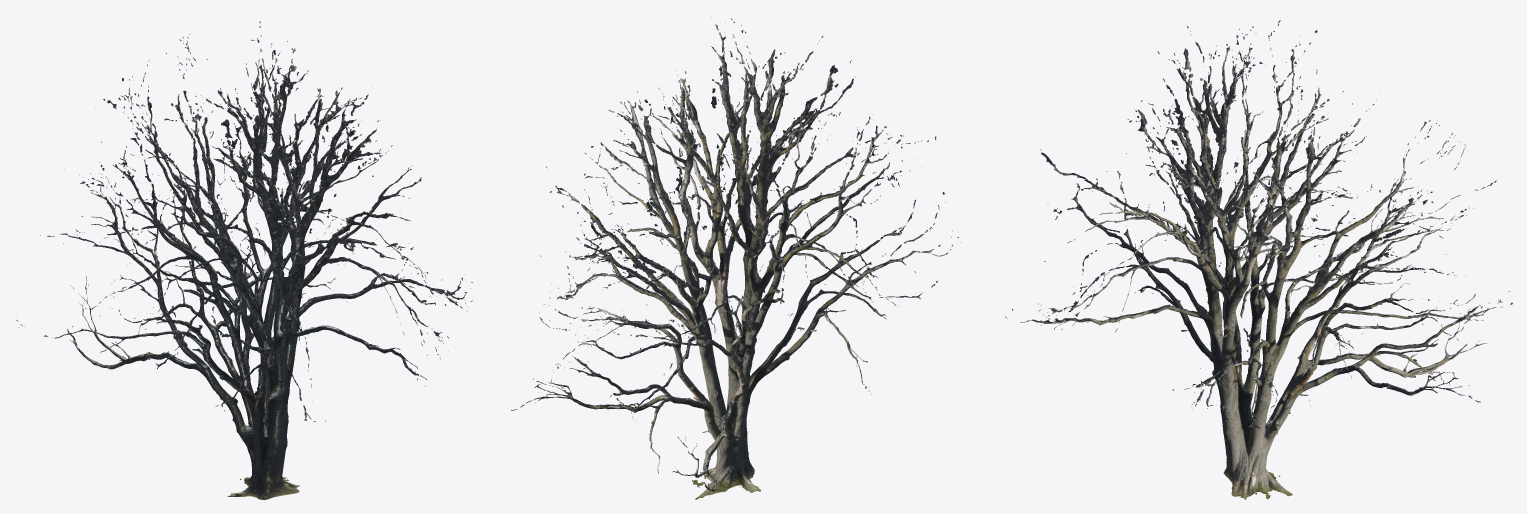
File: tree.glb
3 renders of one model, left to right at view 1: azimuth 30°, elevation 25°; view 2: azimuth 150°, elevation 25°; view 3: azimuth 270°, elevation 25°, orthographic. The views are drawn at different scales.
Parts seen in each view (by area): view 1: Object_2; view 2: Object_2; view 3: Object_2.
Boxes of the visible parts, box(x1,y1,x2,y2) form: Object_2: box(16, 21, 472, 499); Object_2: box(511, 17, 961, 499); Object_2: box(1005, 20, 1512, 499).
Bounding box in the file's own units: 2.76 × 3.14 × 3.09.
1 material, 1 textured.
